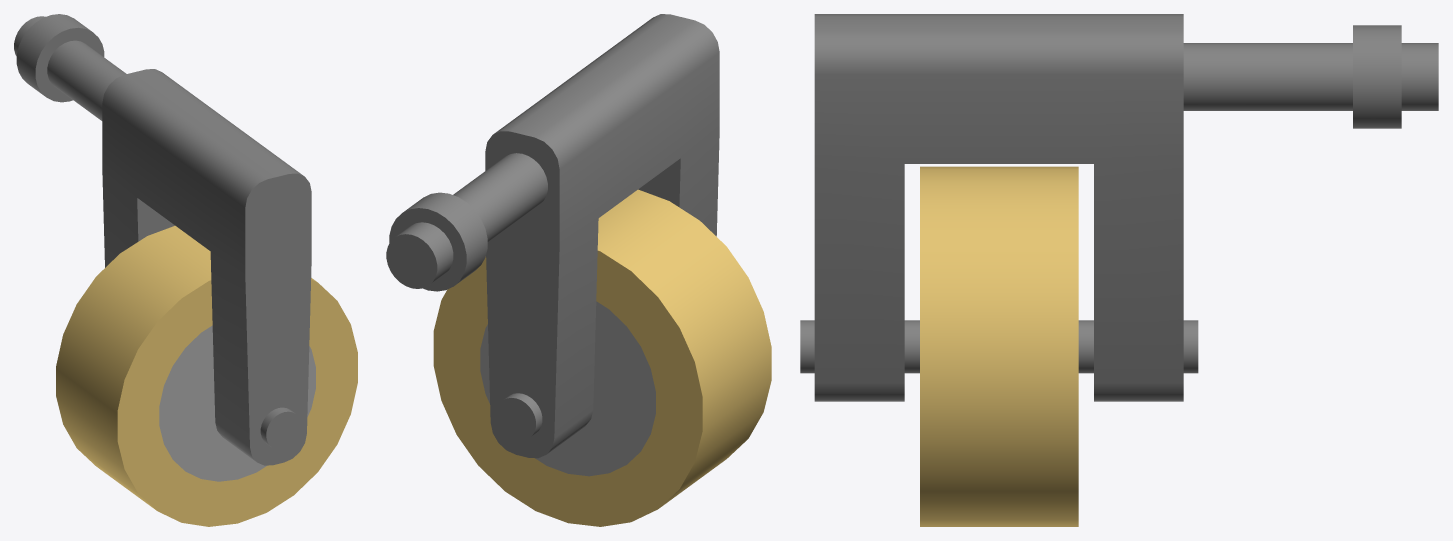
The model's file is bant_machine.fbx.
3 views of the same model, side by side, from view 1: azimuth 30°, elevation 25°; view 2: azimuth 150°, elevation 25°; view 3: azimuth 270°, elevation 25° (orthographic). The views are drawn at different scales.
Parts seen in each view (by area): view 1: bant, bantMakina, bantMakinaKol; view 2: bant, bantMakina, bantMakinaKol; view 3: bantMakina, bant, bantMakinaKol.
Part boxes in pixels (x1,y1,x2,y2): bant: (56, 225, 357, 526); bantMakina: (102, 69, 311, 465); bantMakinaKol: (14, 14, 126, 120); bant: (433, 189, 771, 526); bantMakina: (485, 14, 719, 458); bantMakinaKol: (386, 153, 547, 291); bantMakina: (800, 14, 1198, 401); bant: (920, 166, 1078, 526); bantMakinaKol: (1183, 25, 1438, 128).
Size of the model in its own units: 175 by 312 by 262.
